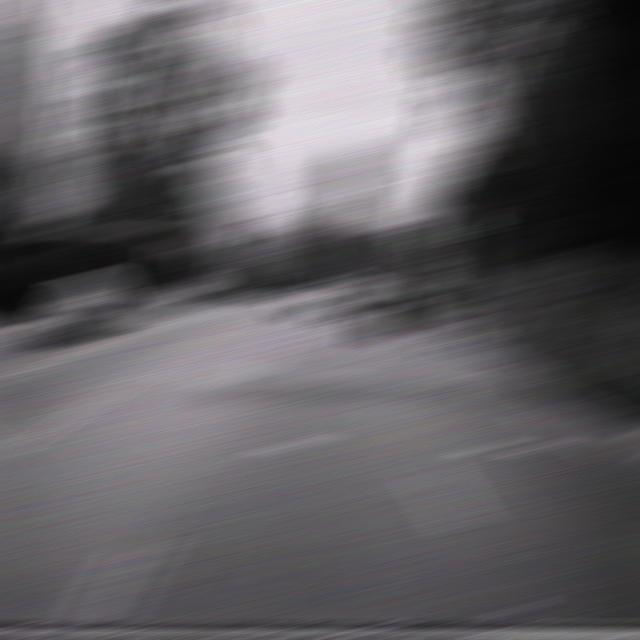speedLimit35: (417, 233, 451, 257)
